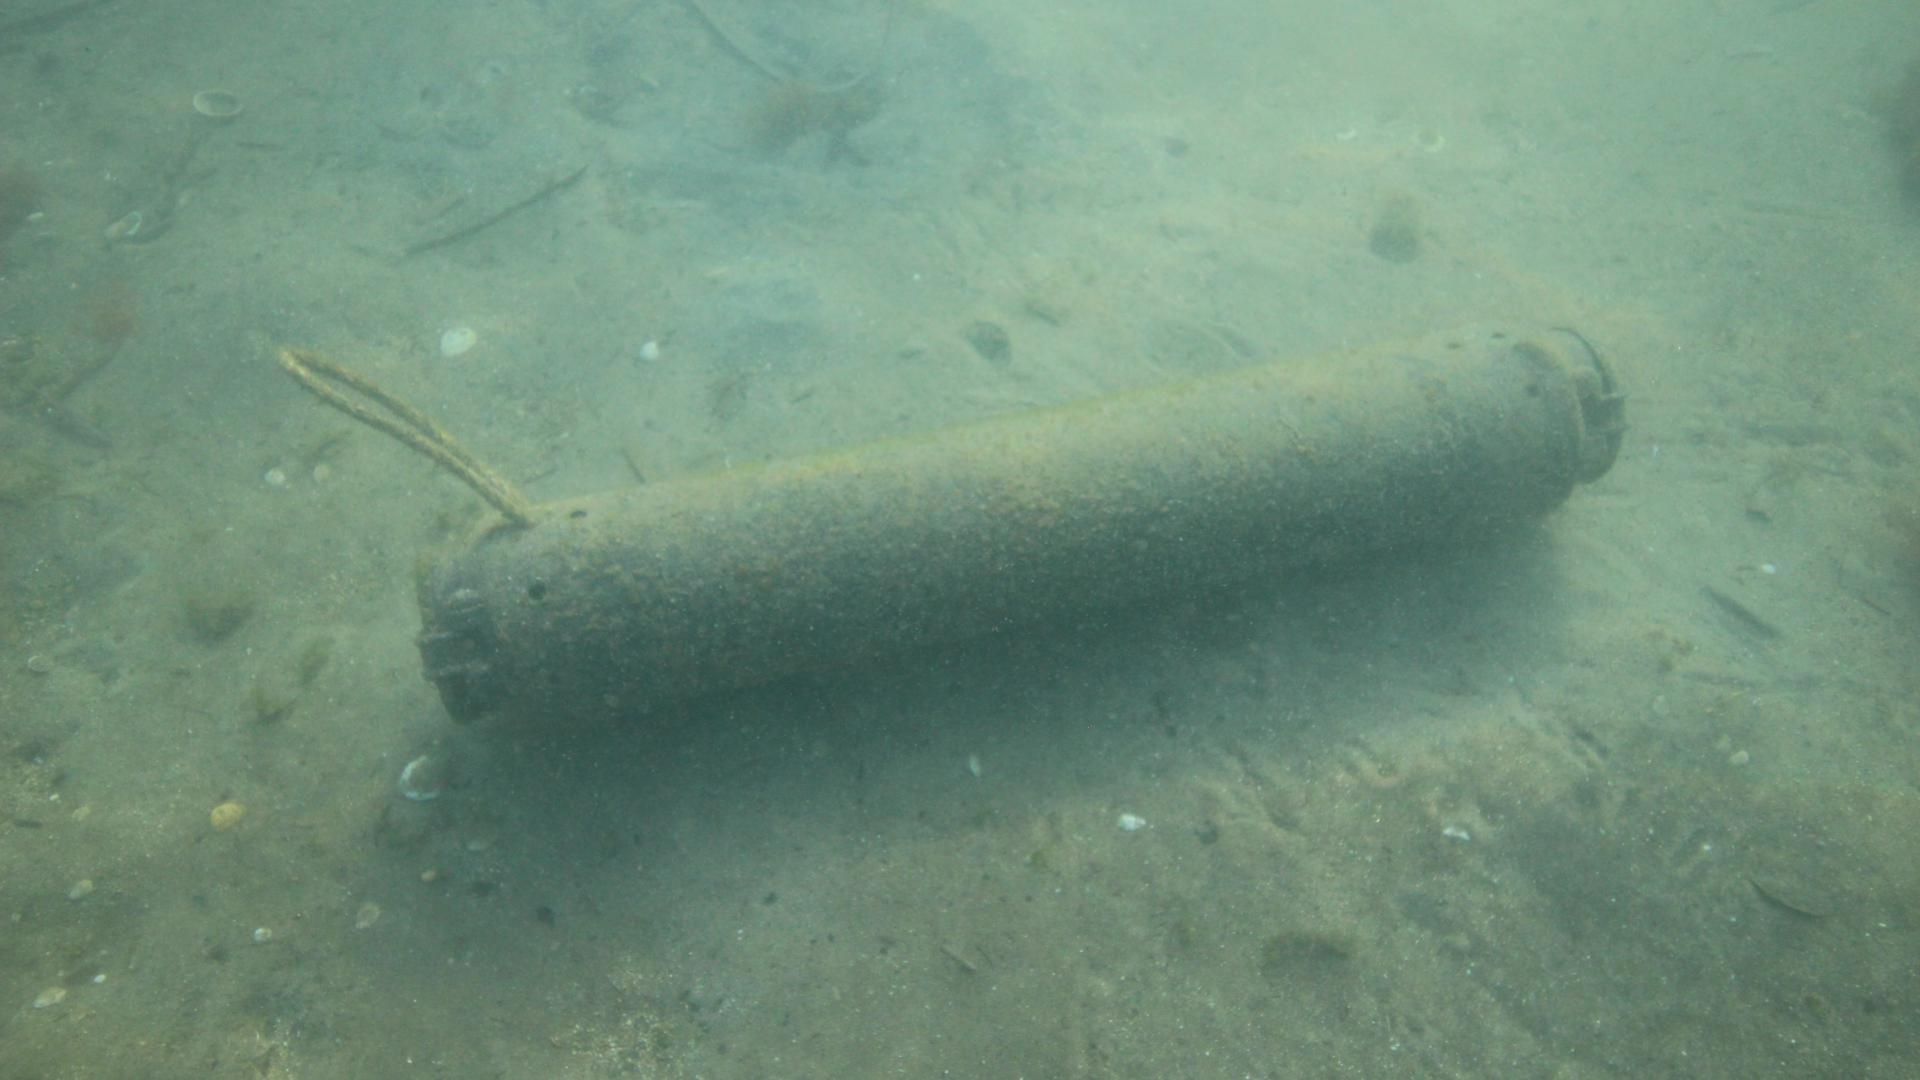eel fish trap: (414, 318, 1626, 728)
rope: (276, 344, 539, 526)
